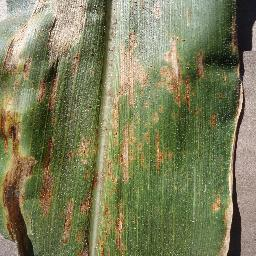Gray_Leaf_Spot: (1, 0, 92, 79), (212, 95, 248, 256), (112, 93, 164, 172), (0, 155, 39, 255), (151, 34, 207, 89), (98, 171, 131, 256), (114, 28, 151, 91), (64, 126, 98, 194), (223, 0, 244, 94), (38, 135, 59, 221), (62, 196, 91, 256), (0, 102, 25, 156), (30, 79, 58, 119), (113, 0, 165, 19), (171, 87, 197, 116), (0, 79, 20, 100), (183, 8, 194, 28), (164, 148, 174, 164)
